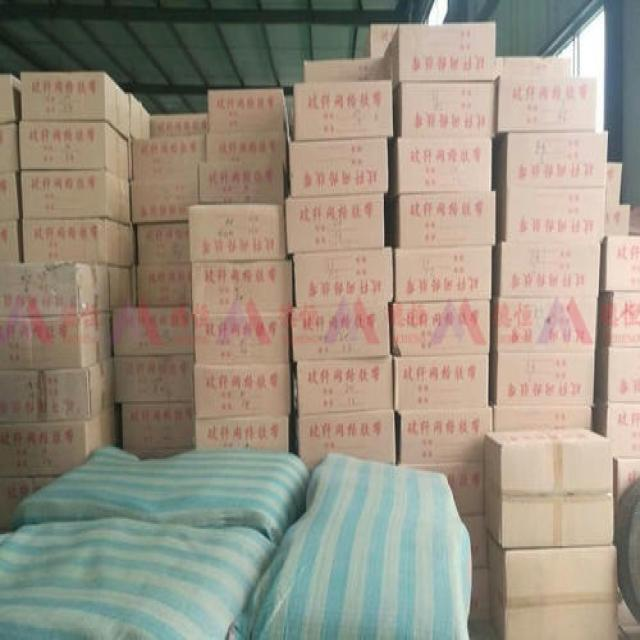box: (485, 428, 614, 550), (488, 536, 618, 640), (0, 406, 119, 478), (0, 357, 115, 425), (384, 20, 497, 89), (19, 72, 129, 142), (284, 191, 385, 256), (18, 123, 129, 181), (0, 314, 113, 370), (20, 171, 132, 227), (394, 189, 497, 249), (288, 137, 389, 198), (293, 79, 393, 140), (294, 246, 394, 307), (503, 131, 608, 188), (291, 302, 390, 362), (188, 203, 285, 263), (1, 263, 110, 316), (497, 242, 602, 297), (502, 186, 605, 242), (393, 82, 497, 137), (394, 138, 492, 196), (495, 297, 598, 352), (297, 357, 394, 415), (191, 259, 293, 314), (193, 362, 292, 418), (298, 410, 397, 466), (493, 352, 595, 406), (392, 300, 492, 355), (497, 79, 595, 135), (396, 247, 493, 302), (394, 355, 489, 411), (401, 406, 493, 463), (22, 220, 133, 266), (193, 312, 289, 364), (401, 463, 484, 514), (120, 401, 195, 457), (114, 353, 195, 404), (197, 159, 283, 207), (113, 305, 193, 353), (193, 415, 289, 452), (205, 130, 288, 171), (132, 174, 198, 224), (207, 89, 284, 131), (132, 137, 206, 179), (593, 398, 640, 456), (594, 345, 640, 401), (493, 406, 591, 432), (595, 292, 640, 348), (302, 56, 390, 84), (599, 236, 640, 292), (136, 220, 189, 263), (137, 263, 191, 305), (494, 58, 571, 79), (151, 114, 207, 137), (614, 456, 640, 503), (364, 24, 398, 58), (0, 72, 20, 125), (129, 94, 151, 140), (108, 268, 132, 309), (0, 171, 19, 222), (603, 203, 631, 237), (0, 123, 19, 171), (0, 220, 20, 263), (605, 162, 622, 207)
